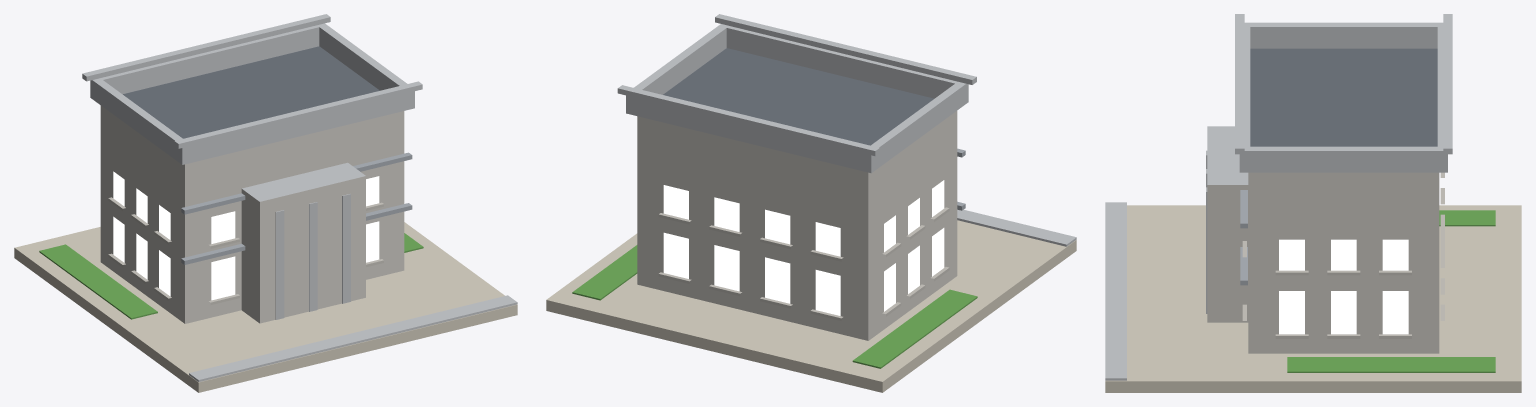
3 renders of one model, left to right at view 1: azimuth 30°, elevation 25°; view 2: azimuth 150°, elevation 25°; view 3: azimuth 270°, elevation 25°, orthographic. The views are drawn at different scales.
Parts seen in each view (by area): view 1: b17_v2_lod1; view 2: b17_v2_lod1; view 3: b17_v2_lod1.
Boxes of the visible parts, x1,y1,x2,y2 form: b17_v2_lod1: (14,14,517,392); b17_v2_lod1: (546,14,1076,392); b17_v2_lod1: (1105,14,1521,392).
Bounding box in the file's own units: 0.96 × 0.569 × 0.96.
